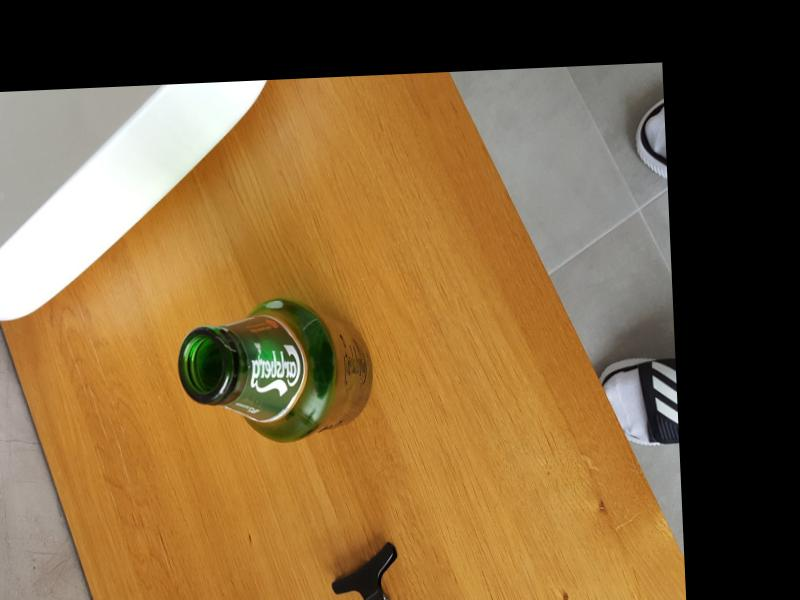Beer: (177, 292, 375, 446)
